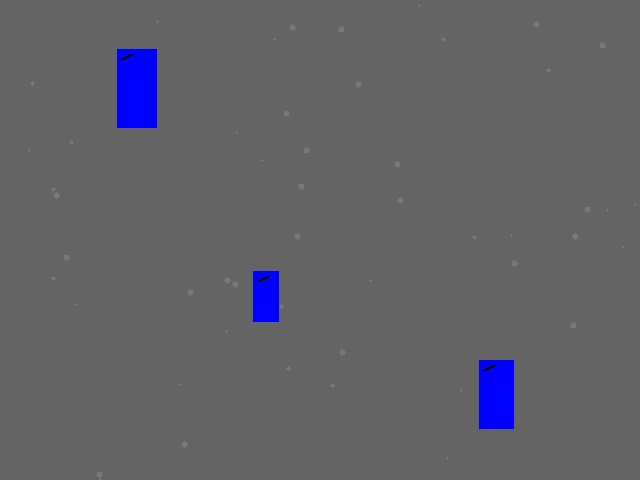motorcycle: (117, 49, 156, 127), (479, 360, 513, 428), (253, 271, 278, 321)
